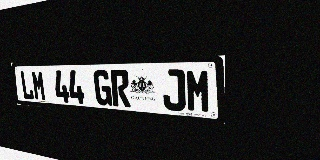4: (67, 70, 85, 104), (53, 70, 70, 103)
G: (93, 70, 112, 106)
J: (162, 69, 186, 111)
L: (19, 71, 34, 100)
M: (185, 69, 211, 113), (31, 70, 47, 101)
R: (110, 70, 131, 107)
